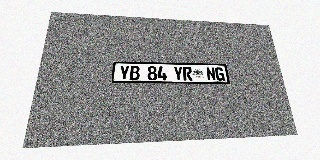plate: (112, 61, 230, 84)
